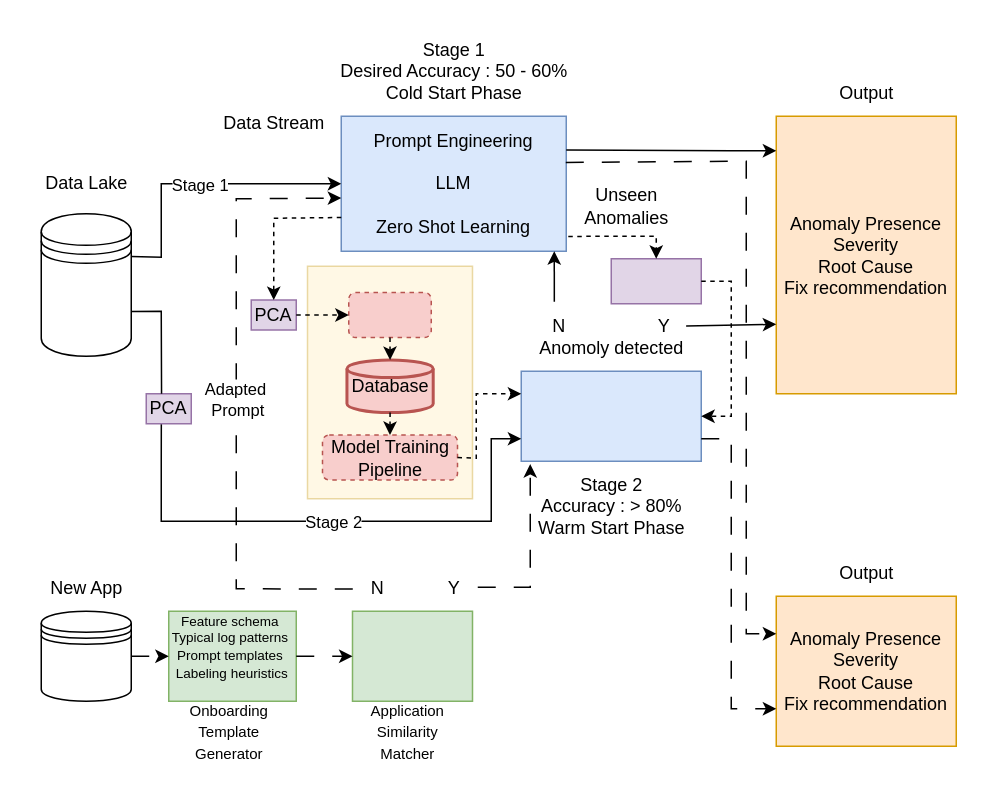
Some shapes in this 983 by 801 pixel diagram are drawn without their labels. Each missing label, with the box of its shape:
Feature Extraction: (347, 291, 431, 338)
Log Format Metric Types: (351, 610, 472, 701)
Periodic Retrainer: (610, 257, 701, 304)
Trained Model: (520, 370, 701, 461)
